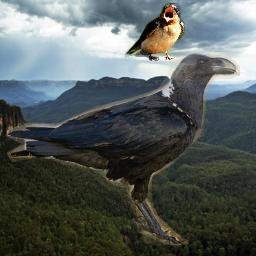Crow: (7, 53, 240, 245)
Swallow: (125, 3, 185, 61)
